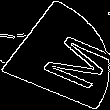M_NW: (9, 22, 101, 88)
